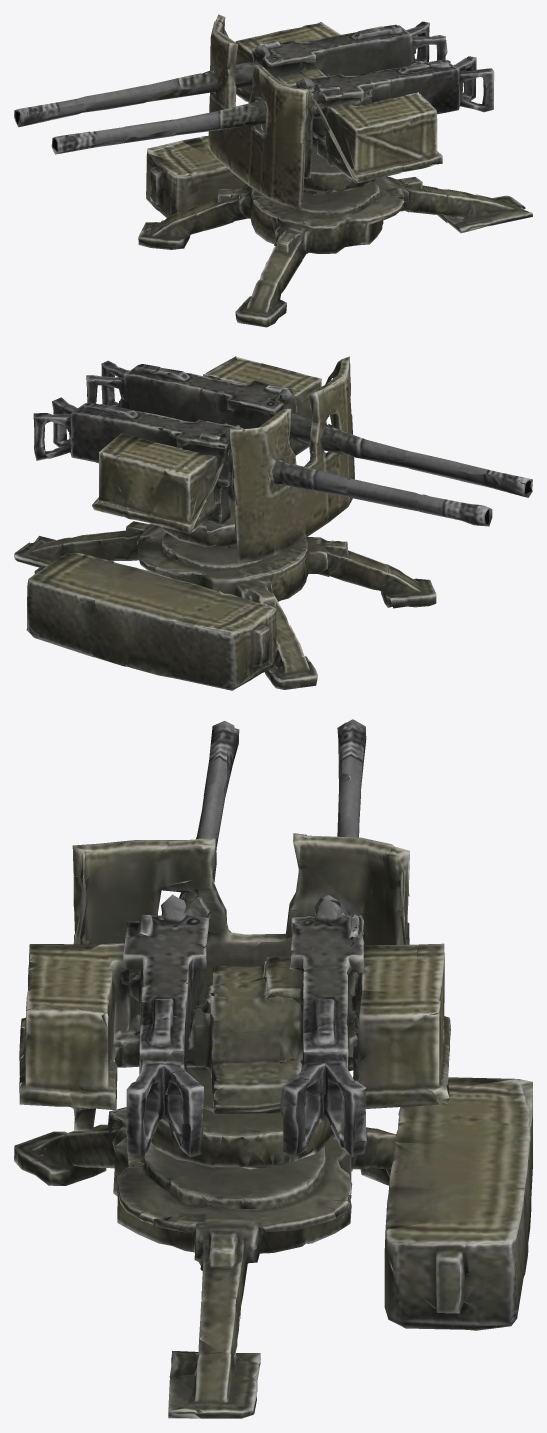
Rendered from meshy_hmg.glb.
3 renders of one model, top to bottom at view 1: azimuth 30°, elevation 25°; view 2: azimuth 150°, elevation 25°; view 3: azimuth 270°, elevation 25°, orthographic. The views are drawn at different scales.
Visible parts, largest first — view 1: Mesh_0; view 2: Mesh_0; view 3: Mesh_0.
Part boxes in pixels (x1,y1,x2,y2): Mesh_0: [14, 14, 532, 327]; Mesh_0: [14, 356, 532, 690]; Mesh_0: [14, 719, 532, 1418].
Bounding box in the file's own units: 1.9 × 0.8348 × 1.07.
1 material, 1 textured.
